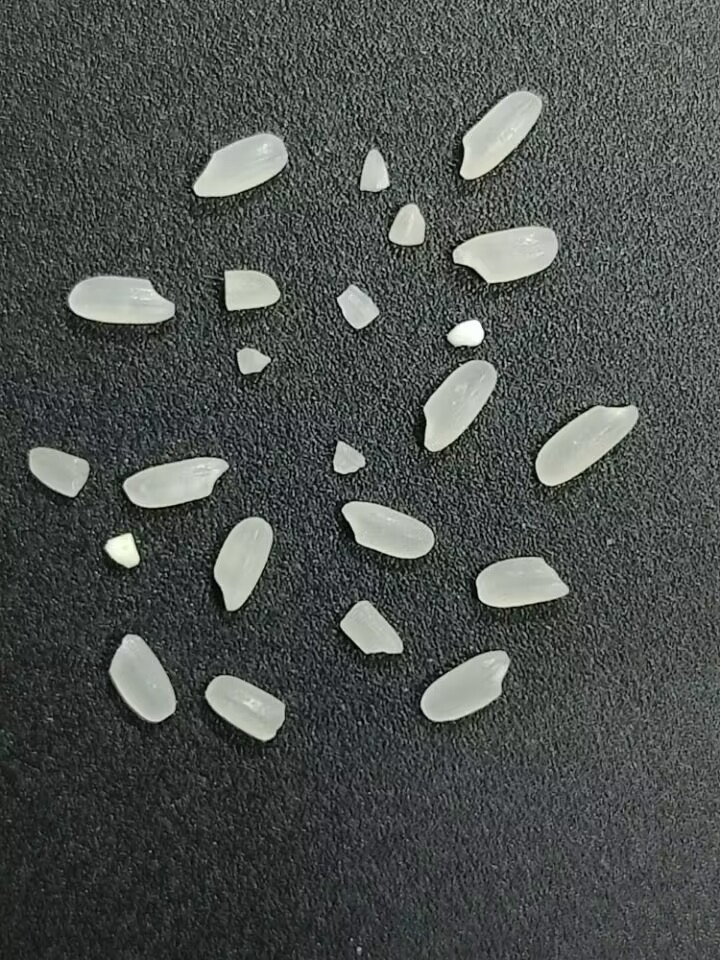broken: (205, 674, 286, 741), (23, 440, 91, 502), (337, 598, 406, 656), (334, 280, 385, 337), (223, 267, 281, 312), (381, 202, 431, 248), (437, 313, 490, 350), (355, 145, 394, 195), (101, 530, 144, 573), (325, 435, 367, 477), (236, 347, 271, 375)
rice: (532, 399, 644, 488), (417, 355, 502, 454), (456, 89, 543, 183), (105, 630, 178, 727), (190, 132, 288, 201), (119, 452, 231, 512), (419, 650, 512, 722), (450, 224, 557, 285), (210, 514, 274, 615), (65, 273, 182, 327), (337, 499, 434, 560), (472, 554, 570, 610)
